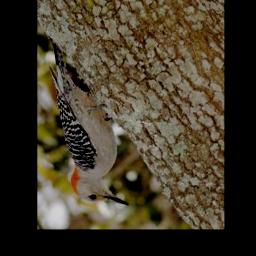Woodpecker: (42, 33, 132, 214)
